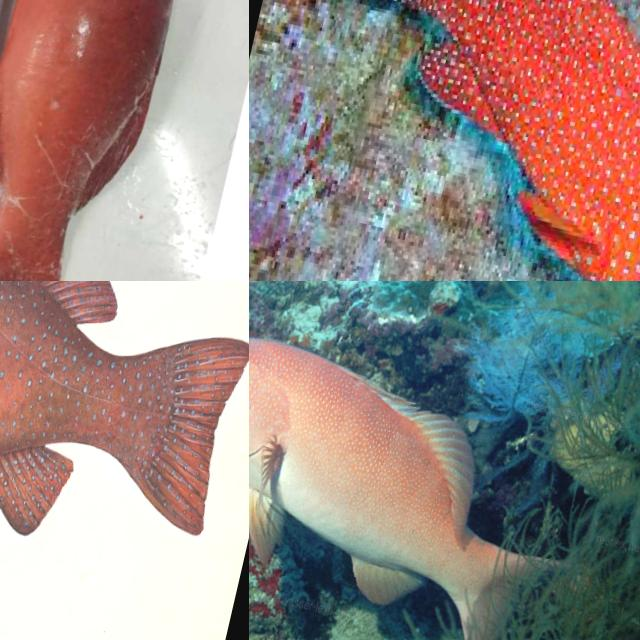Leopard coral grouper: (249, 292, 616, 640), (254, 0, 640, 281), (0, 281, 249, 623), (0, 0, 235, 281), (0, 0, 135, 281)
